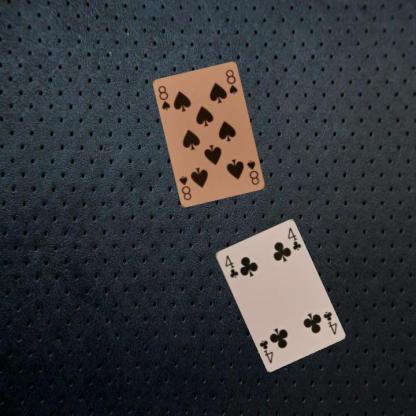4c: (320, 308, 338, 336), (223, 253, 240, 279)
8s: (156, 83, 172, 112), (244, 158, 260, 186)
